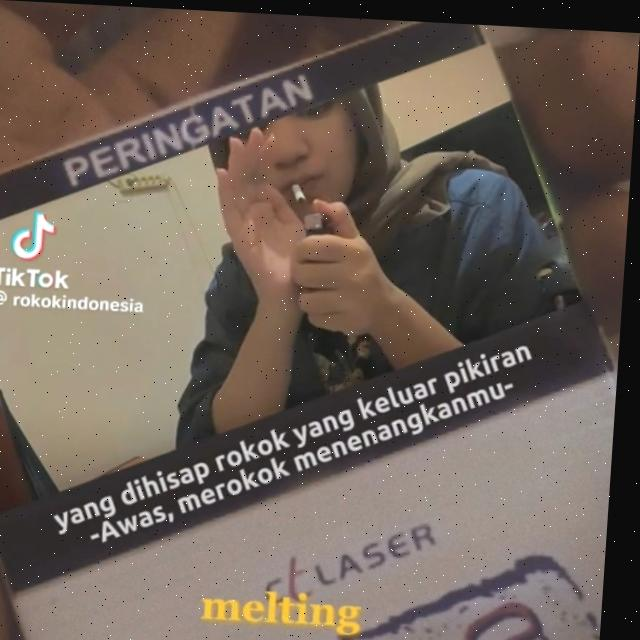cigarette: (293, 180, 311, 201)
